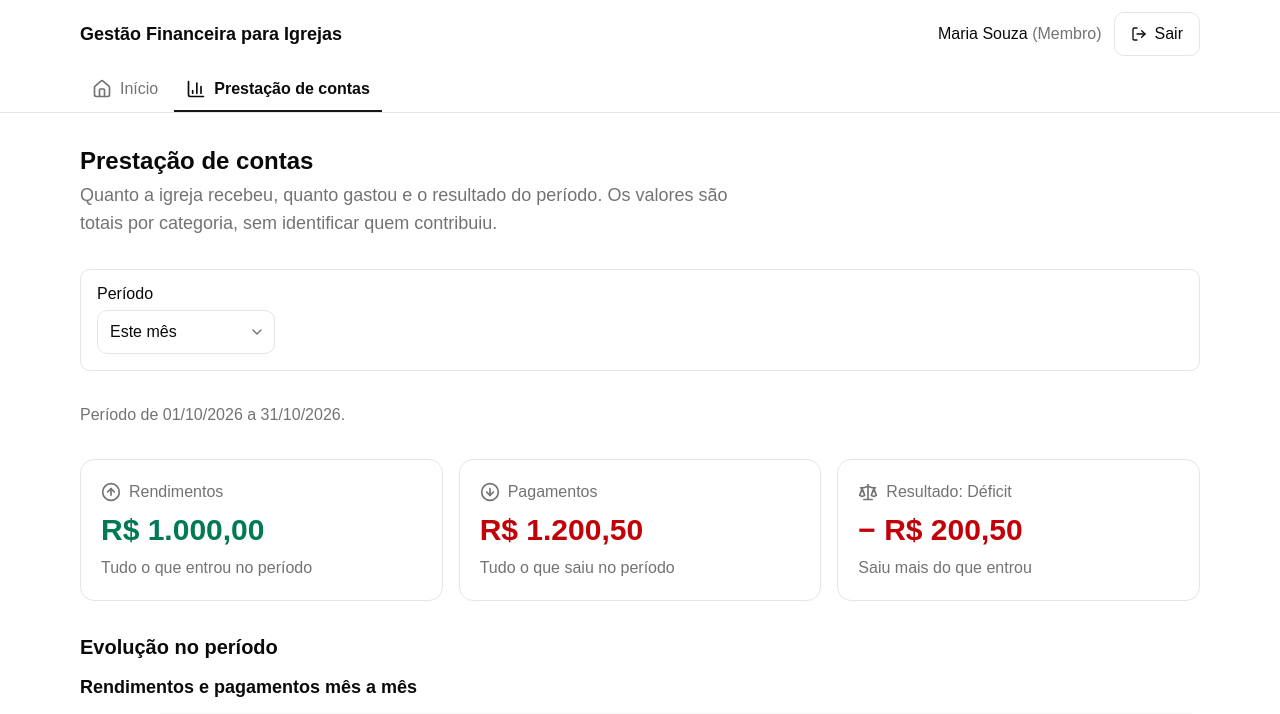
Test: Prestação de contas › valida o período personalizado
Expected: the text "Resultado: Déficit" is shown, [858,482,1012,502]
Select "Personalizado" in the dropdown labelled "Período" at (186, 332), box [97,310,275,354]
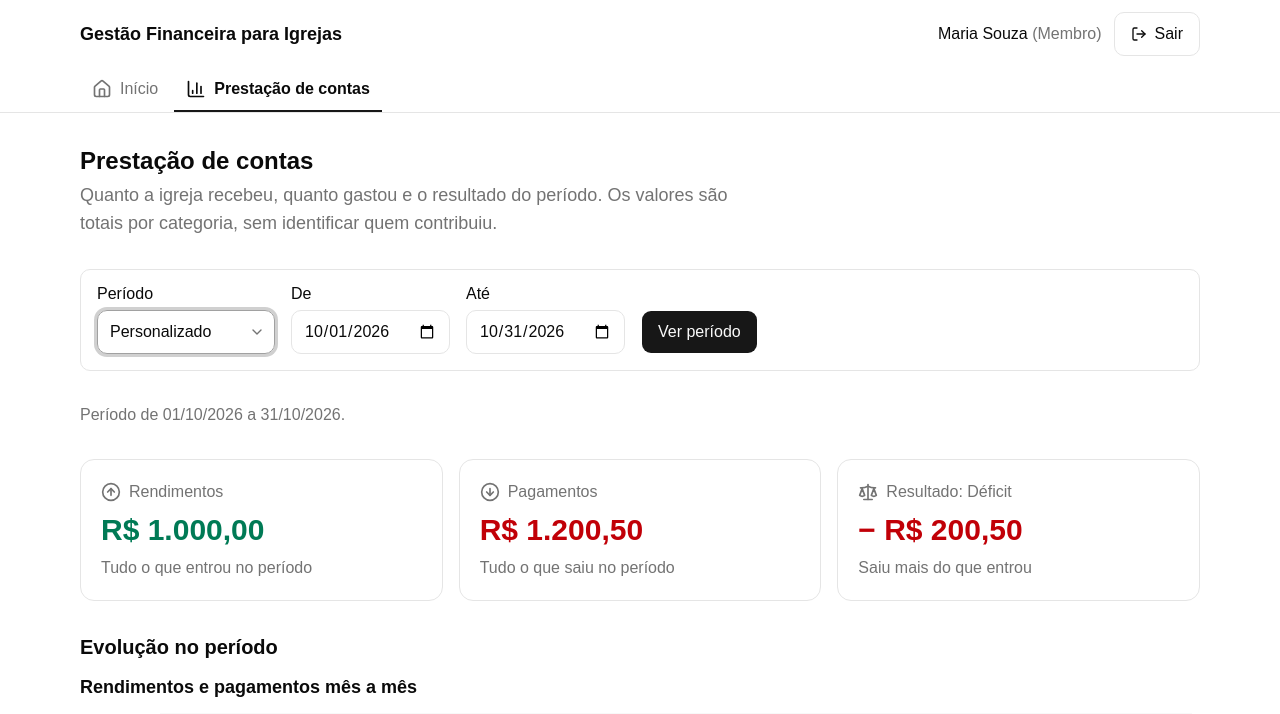
Type "2026-09-30" into the date field labelled "De".
click(370, 332); type("2026-09-30")  # box [291,310,450,354]
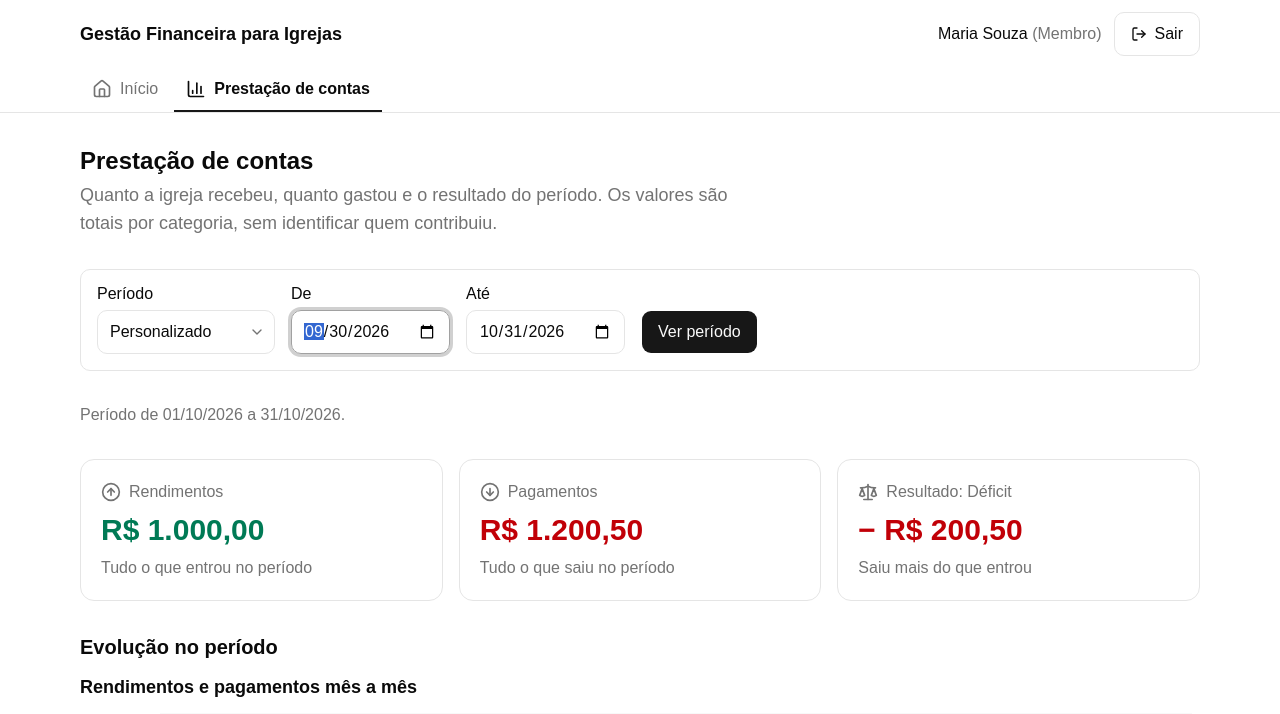
Type "2026-09-01" into the date field labelled "Até".
click(546, 332); type("2026-09-01")  # box [466,310,625,354]
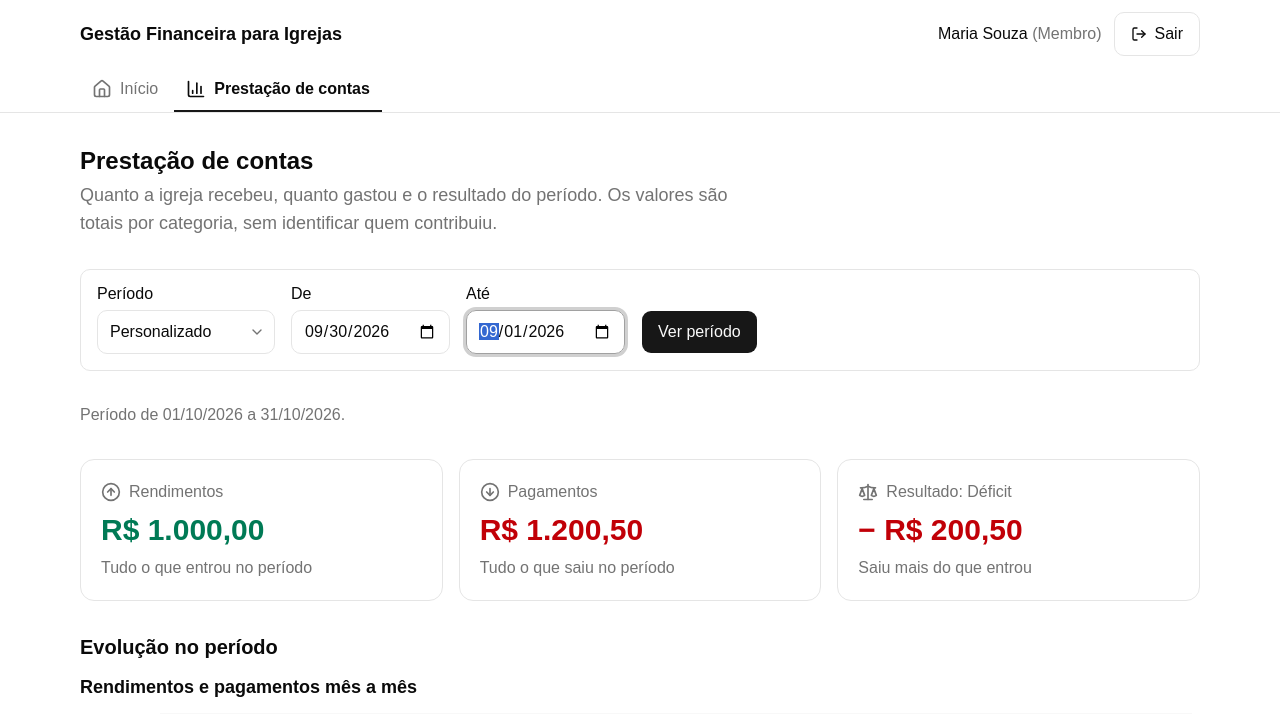
Click the button "Ver período".
click(699, 332)  # box [641,310,758,354]
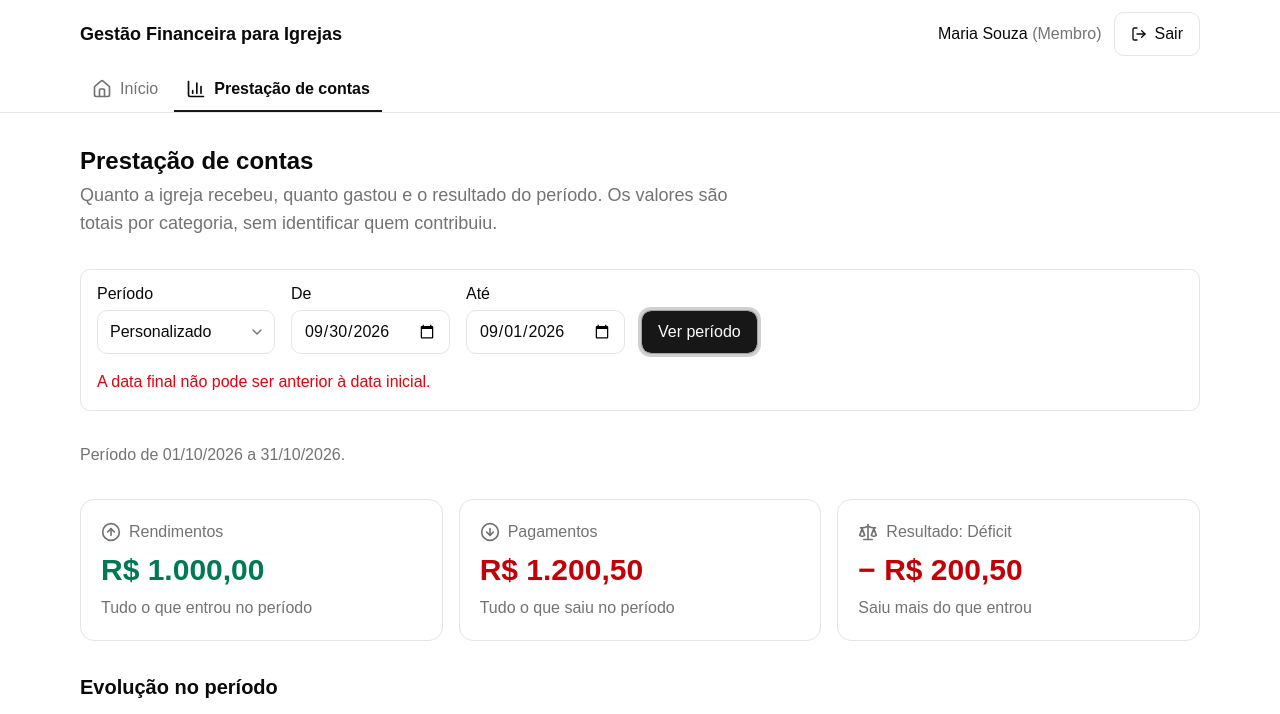
Expected: the message "A data final não pode ser anterior à data inicial." is shown, [97,373,431,390]
